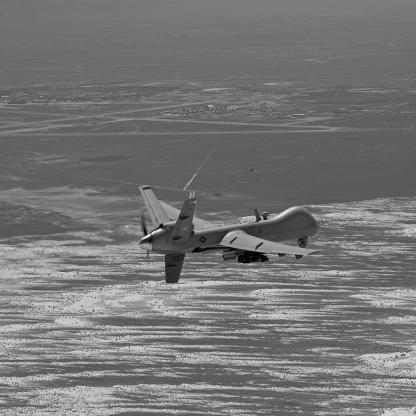MQ9: (139, 185, 329, 285)
